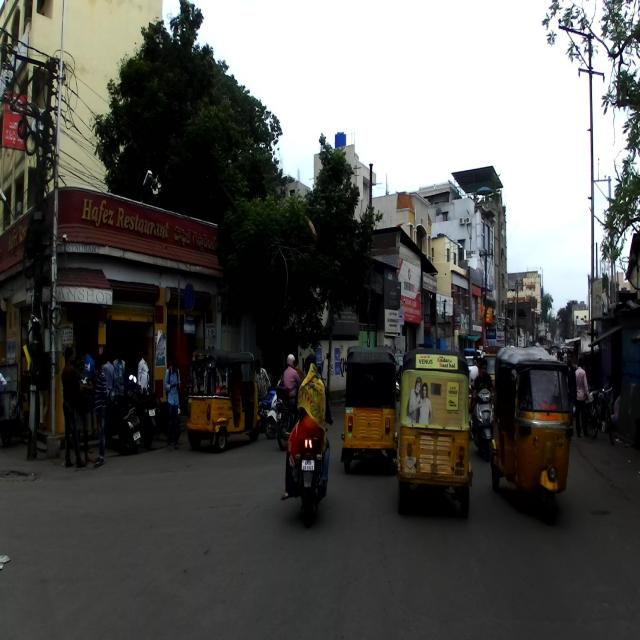autorickshaw: (490, 347, 571, 523), (397, 346, 473, 519), (186, 346, 260, 452), (339, 345, 399, 474)
motorcycle: (293, 416, 333, 528), (144, 368, 181, 446), (125, 371, 157, 449), (2, 390, 32, 449)
scooter: (104, 376, 142, 455)
